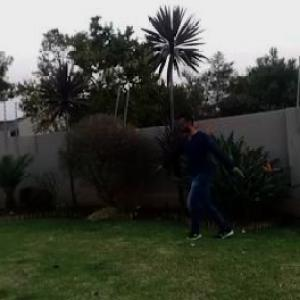land: (138, 94, 272, 260)
